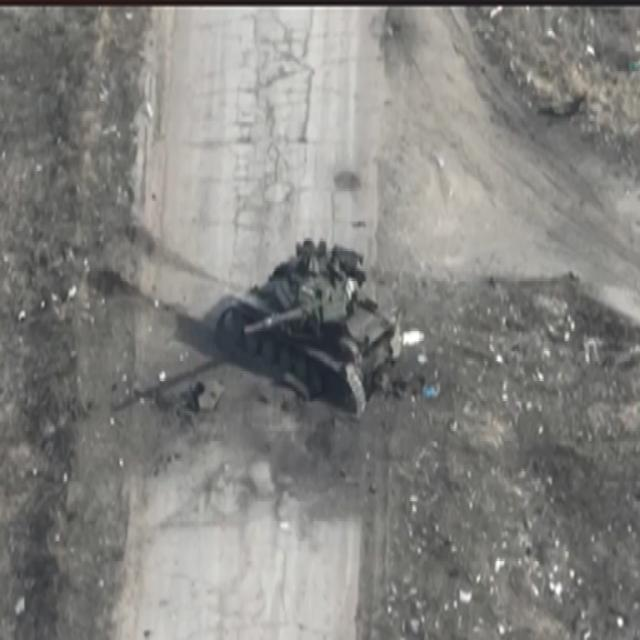TANK: (213, 227, 405, 420)
